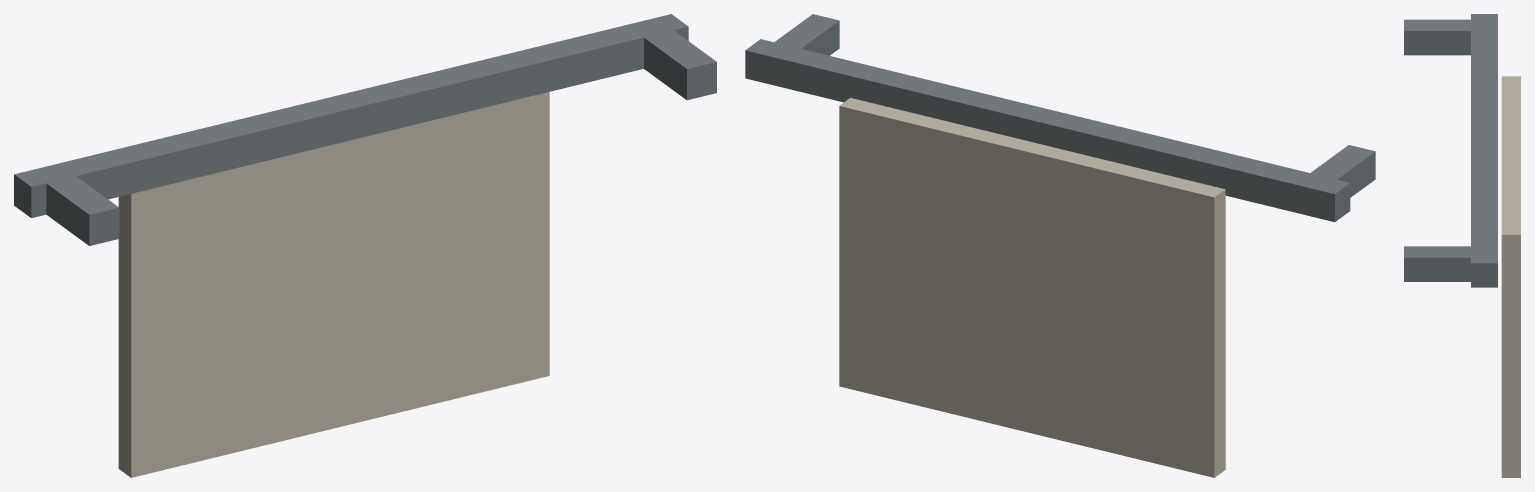
Rendered from towel_rail.glb.
The picture shows the model from 3 angles, left to right: view 1: azimuth 30°, elevation 25°; view 2: azimuth 150°, elevation 25°; view 3: azimuth 270°, elevation 25°; orthographic projection. The views are drawn at different scales.
Visible parts, largest first — view 1: body; view 2: body; view 3: body.
Boxes of the visible parts, bbox=[...] form: body: bbox=[14, 14, 716, 477]; body: bbox=[745, 14, 1375, 477]; body: bbox=[1404, 14, 1520, 477].
Size of the model in its own units: 0.55 by 0.2675 by 0.109.
